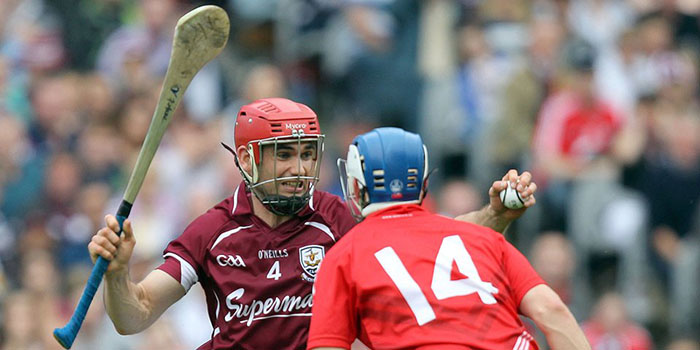ball: (498, 181, 534, 209)
player: (321, 128, 552, 345), (167, 86, 330, 340)
